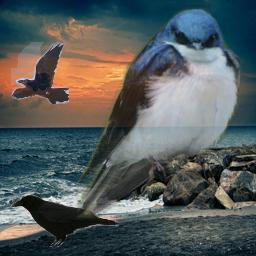Crow: (8, 192, 119, 247), (11, 42, 69, 104)
Swallow: (71, 6, 243, 219)
